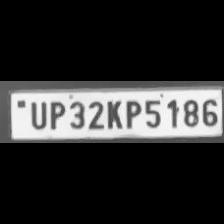1: (164, 97, 181, 129)
2: (86, 98, 104, 130)
3: (66, 98, 86, 130)
5: (142, 97, 162, 129)
6: (199, 96, 219, 128)
8: (180, 97, 200, 129)
K: (104, 98, 122, 130)
P: (47, 98, 65, 130), (122, 98, 140, 130)
U: (27, 99, 46, 129)
